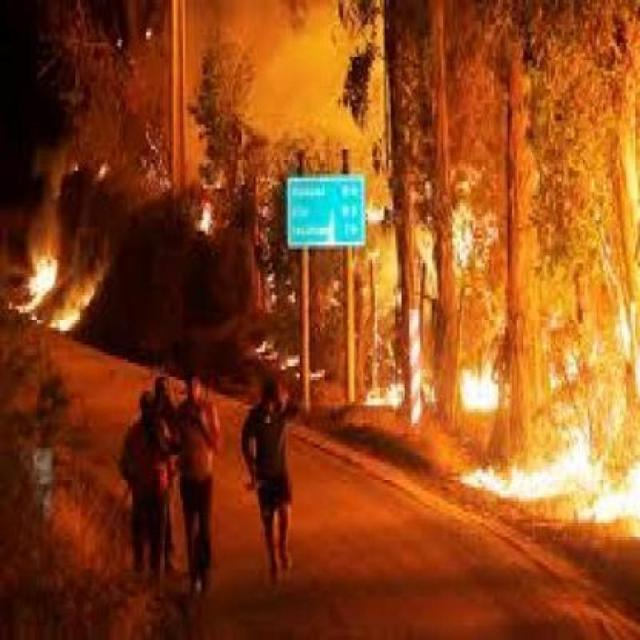Fire: (367, 227, 640, 542), (8, 203, 112, 369), (246, 312, 304, 403), (180, 177, 228, 248)
